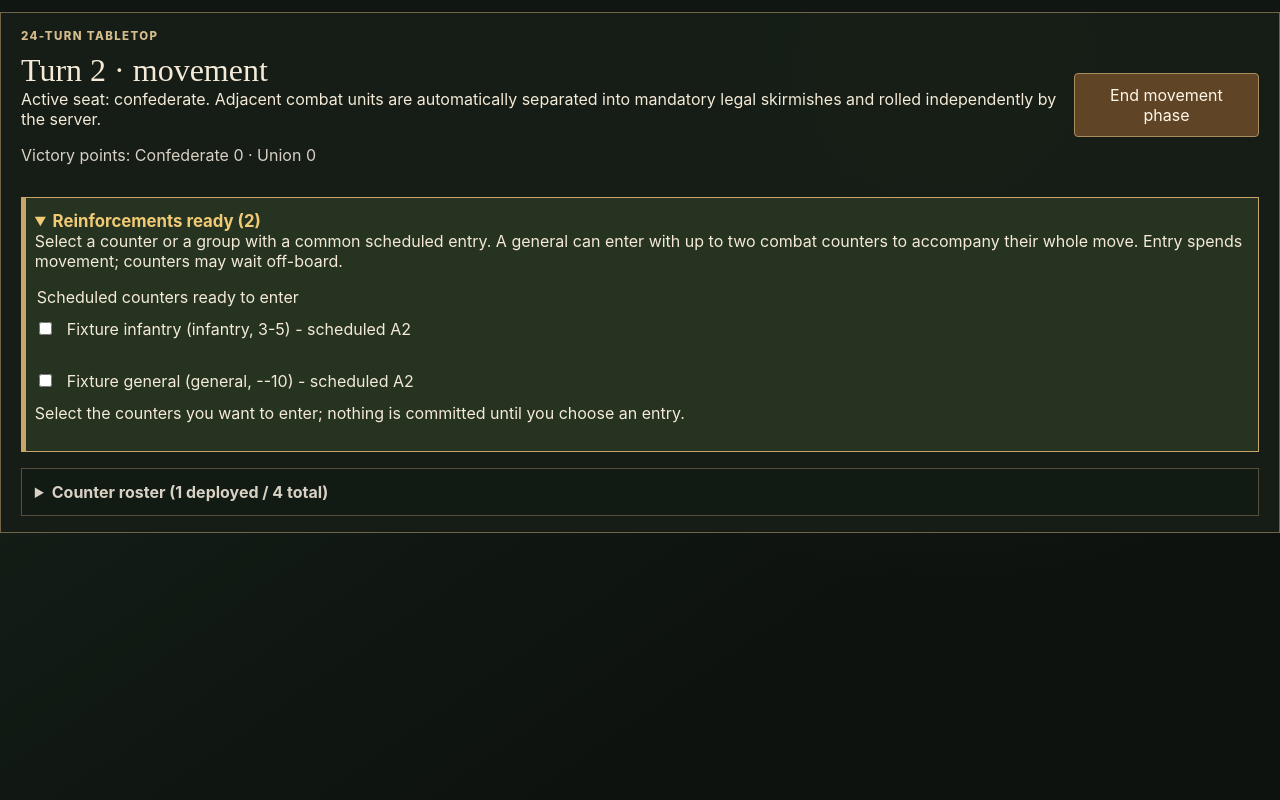
Test: mandatory reinforcement and night guidance › explains friendly congestion instead of inventing alternate entries
The width and height of the screenshot is (1280, 800).
Click the checkbox labelled "Fixture infantry (infantry, 3-5) - scheduled A2" at (45, 329), box x1=39 y1=322 x2=52 y2=335
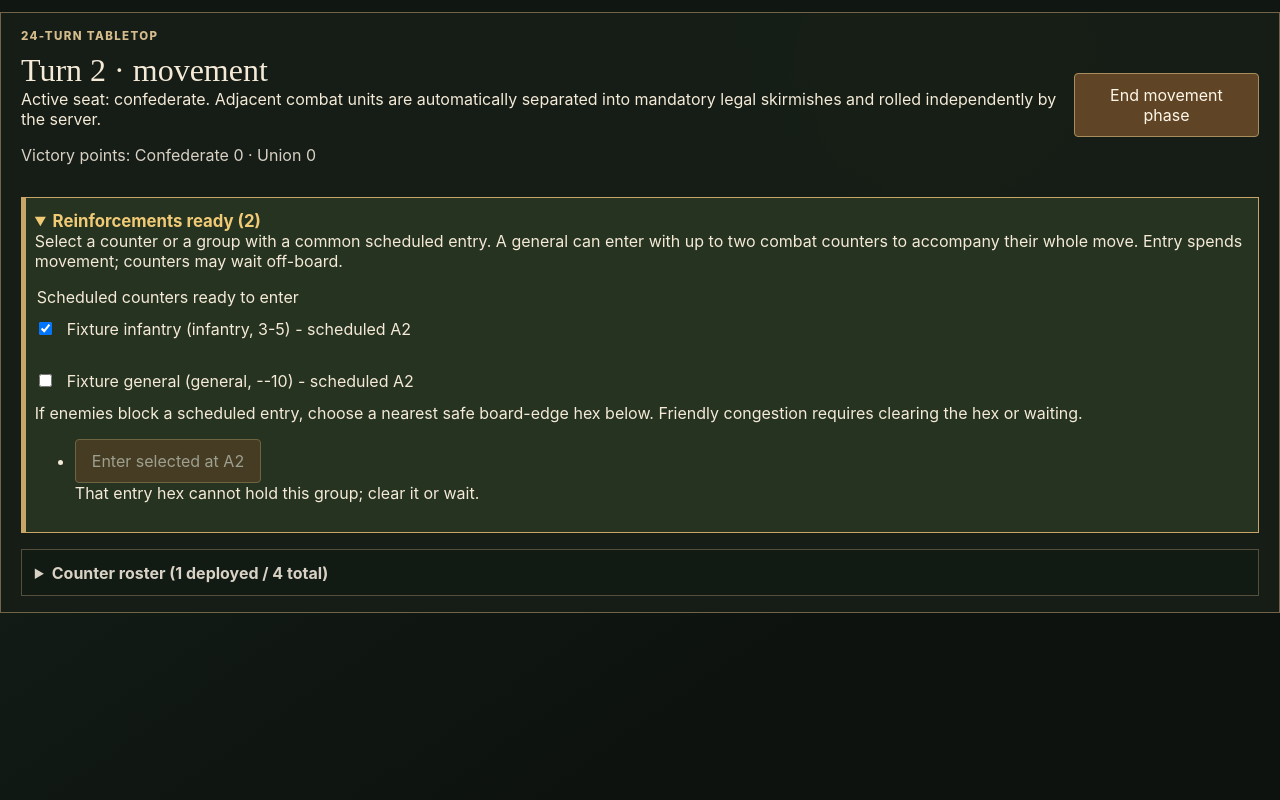
Result: the button "Enter selected at A2" is disabled at x1=75 y1=439 x2=261 y2=483
Result: the text "That entry hex cannot hold this group; clear it or wait." is shown at x1=75 y1=483 x2=479 y2=503
Result: the number of buttons "Enter selected at A2" is 1 at x1=75 y1=439 x2=261 y2=483
Click the checkbox labelled "Fixture general (general, --10) - scheduled A2" at (45, 381), box x1=39 y1=374 x2=52 y2=387
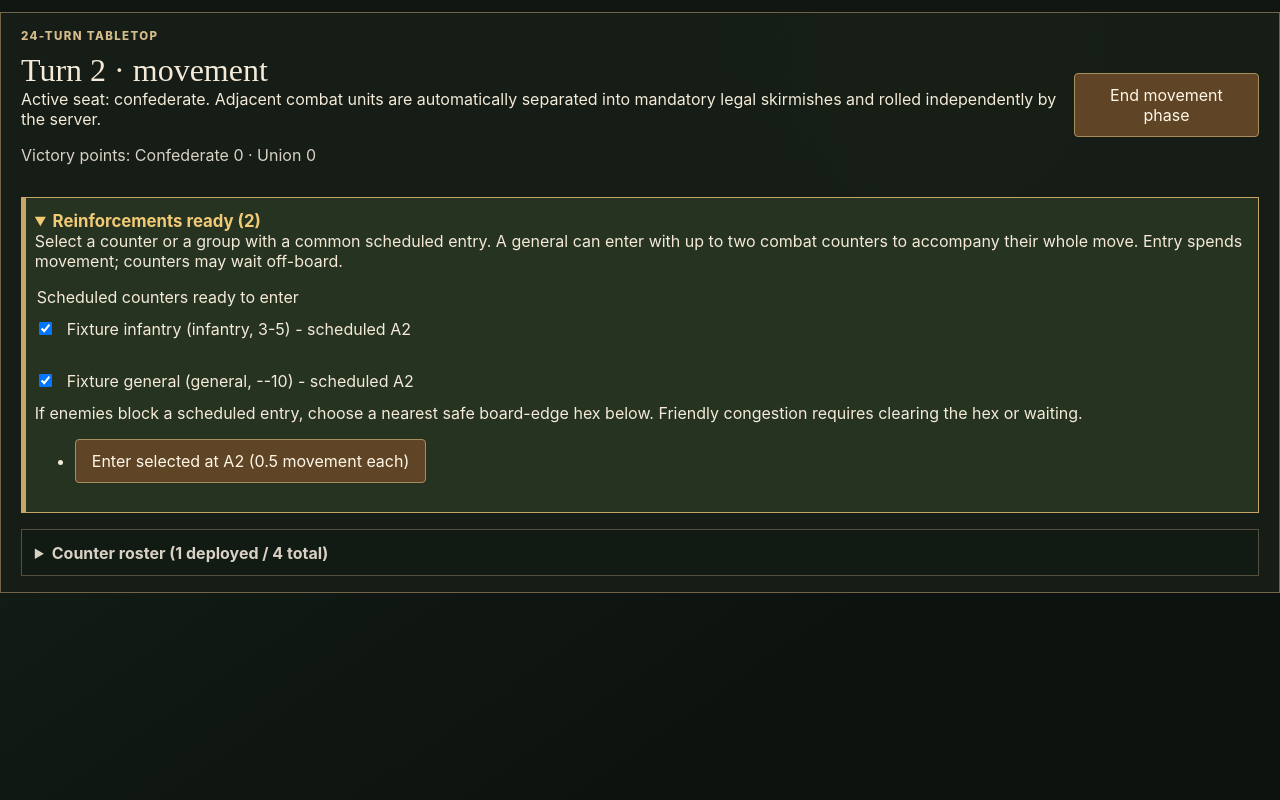
Result: the button "Enter selected at A2 (0.5 movement each)" is enabled at x1=75 y1=439 x2=426 y2=483
